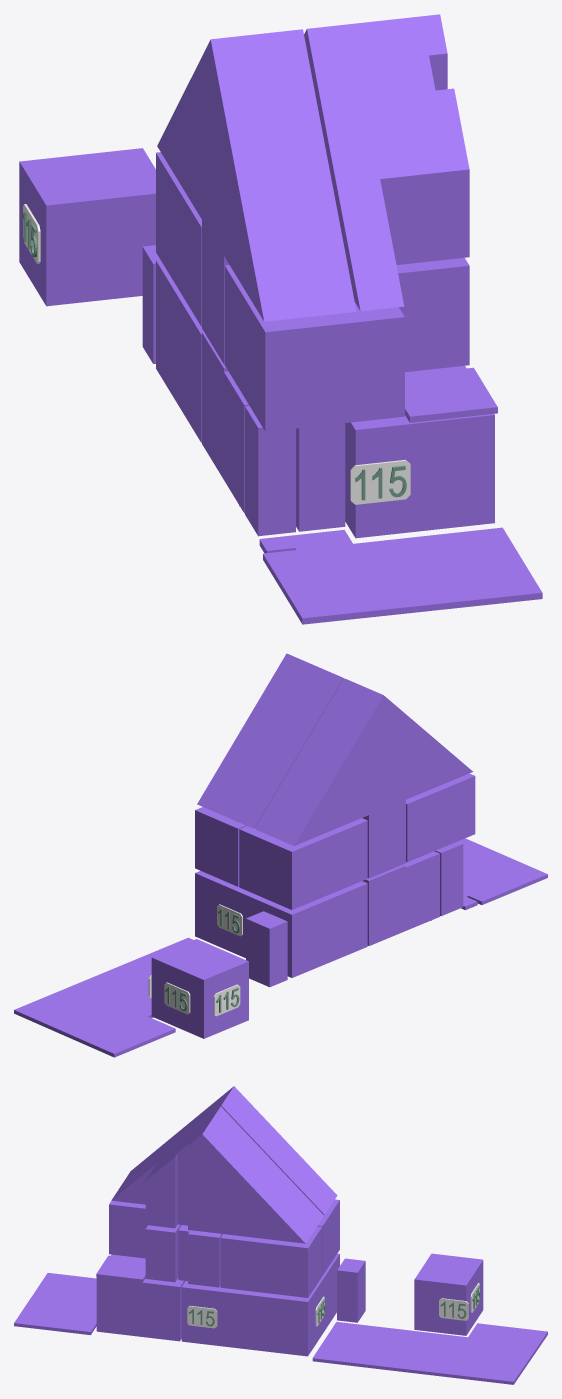
3 renders of one model, top to bottom at view 1: azimuth 30°, elevation 25°; view 2: azimuth 150°, elevation 25°; view 3: azimuth 270°, elevation 25°, orthographic. The views are drawn at different scales.
Visible parts, largest first — view 1: g_6, g_7, g_11, g_17, g_3, g_1, g_2, g_8, g_5, g_0, g_9, g_16 (+3 smaller); view 2: g_7, g_6, g_0, g_15, g_9, g_3, g_2, g_11, g_8, g_17, g_10, g_4 (+5 smaller); view 3: g_6, g_15, g_0, g_10, g_1, g_7, g_3, g_17, g_11, g_13, g_4, g_9 (+4 smaller).
Boxes of the visible parts, x1,y1,x2,y2 form: g_6: (304,14,469,311); g_7: (157,29,356,321); g_11: (224,257,469,431); g_17: (259,527,542,624); g_3: (19,148,155,306); g_1: (345,365,494,538); g_2: (202,332,345,531); g_8: (202,34,263,255); g_5: (245,406,295,536); g_0: (156,259,203,442); g_9: (156,152,201,326); g_16: (405,367,497,422); g_7: (255,678,472,845); g_6: (197,653,343,828); g_0: (195,871,367,977); g_15: (14,937,193,1057); g_9: (239,818,367,909); g_3: (151,939,248,1038); g_2: (362,851,439,945); g_11: (406,773,475,862); g_8: (350,687,405,815); g_17: (458,838,547,910); g_10: (195,807,246,886); g_4: (246,911,287,987); g_6: (111,1106,323,1243); g_15: (312,1322,547,1384); g_0: (181,1253,339,1356); g_10: (220,1226,322,1297); g_1: (96,1254,185,1341); g_7: (118,1095,337,1214); g_3: (414,1253,483,1335); g_17: (14,1273,96,1335); g_11: (109,1200,181,1282); g_13: (178,1225,222,1287); g_4: (337,1258,365,1322); g_9: (317,1199,339,1275).
Bounding box in the file's own units: 11.26 × 10.25 × 23.3.
